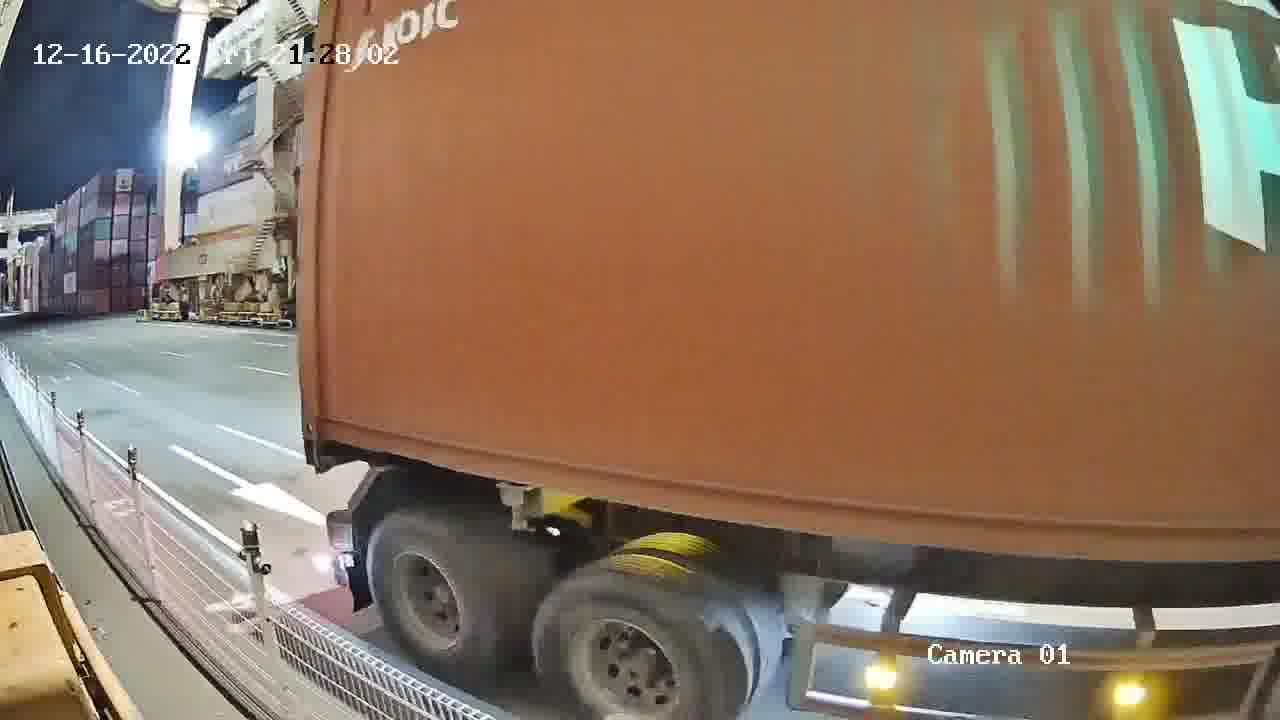Hole_L: (300, 388, 347, 445)
Tire: (535, 573, 749, 714), (367, 519, 504, 677)
